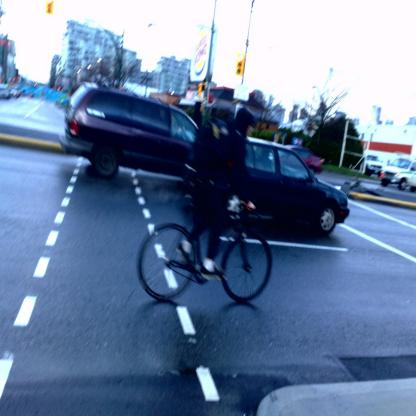Car: (184, 142, 351, 238), (60, 83, 201, 178)
